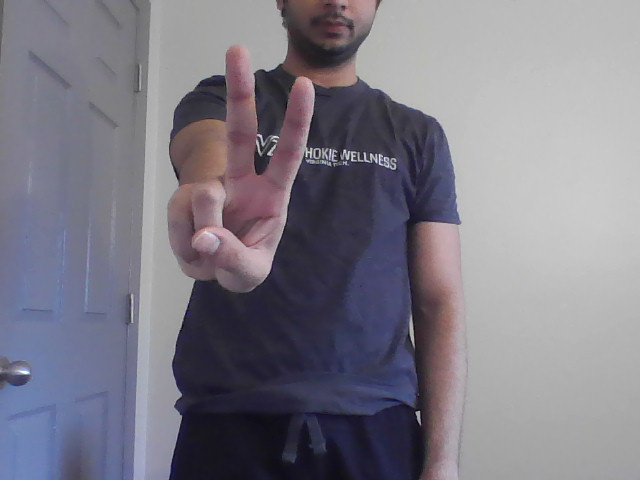two: (168, 42, 313, 299)
